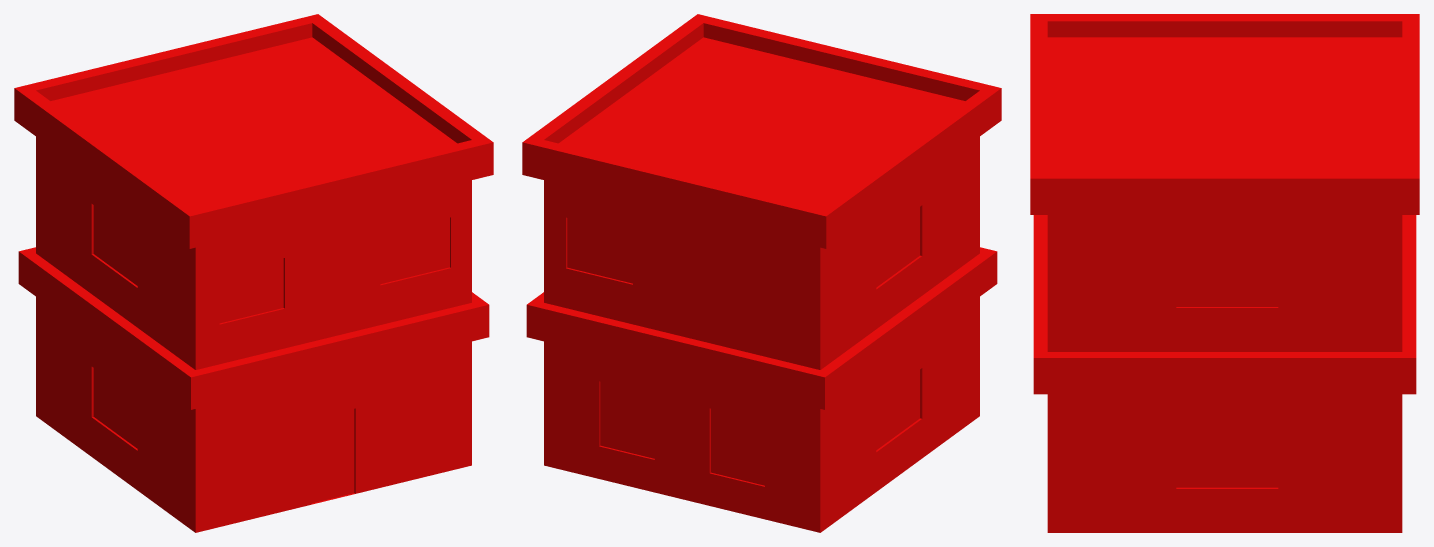
Rendered from House1_M_v1_Carrie.fbx.
3 renders of one model, left to right at view 1: azimuth 30°, elevation 25°; view 2: azimuth 150°, elevation 25°; view 3: azimuth 270°, elevation 25°, orthographic. The views are drawn at different scales.
Visible parts, largest first — view 1: House1_low; view 2: House1_low; view 3: House1_low.
Boxes of the visible parts, x1=… form: House1_low: x1=14, y1=14, x2=493, y2=532; House1_low: x1=522, y1=14, x2=1001, y2=532; House1_low: x1=1030, y1=14, x2=1419, y2=532.
Size of the model in its own units: 1113 by 1139 by 1113.
